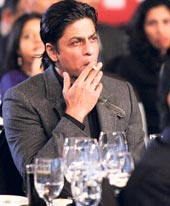cigarette: (89, 63, 99, 73)
not_cigarette: (34, 153, 68, 205), (103, 150, 136, 192), (71, 167, 105, 206)
